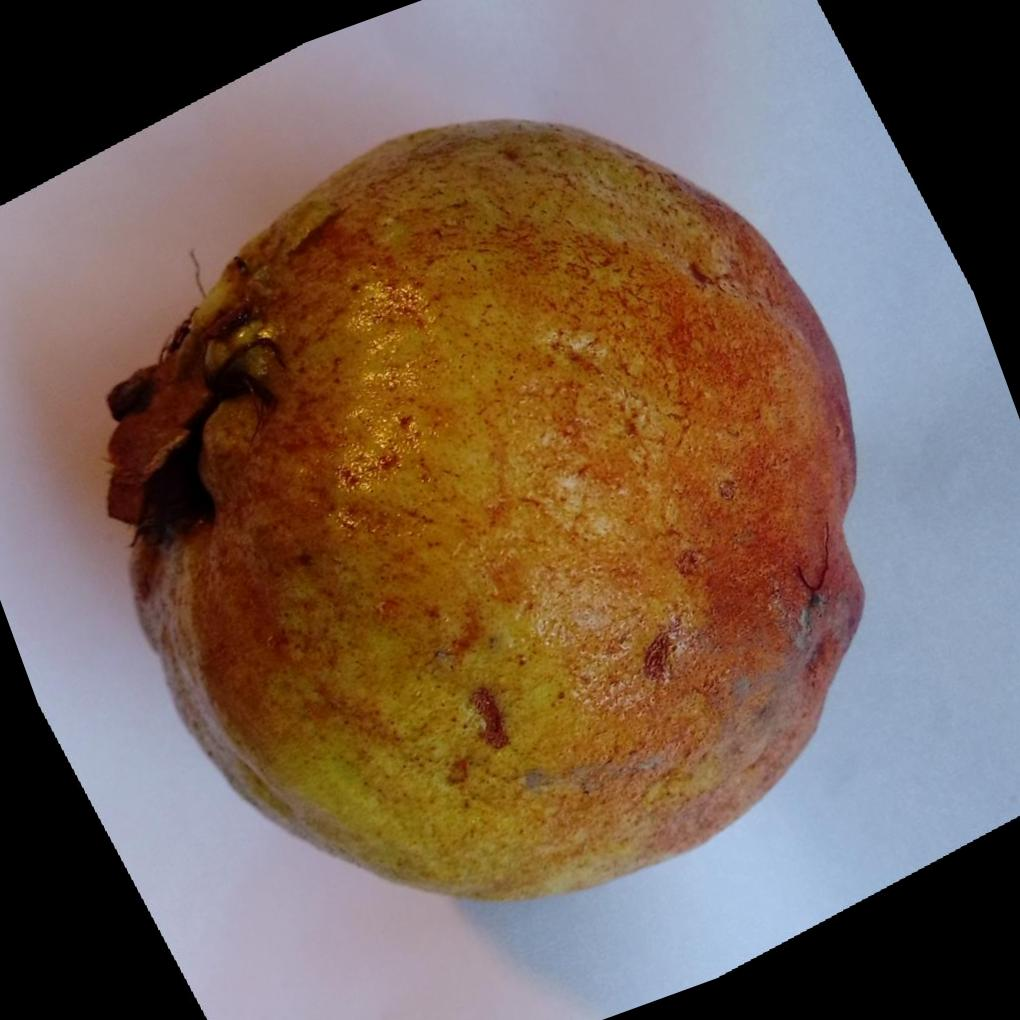FreshOrange: (103, 118, 867, 907)
